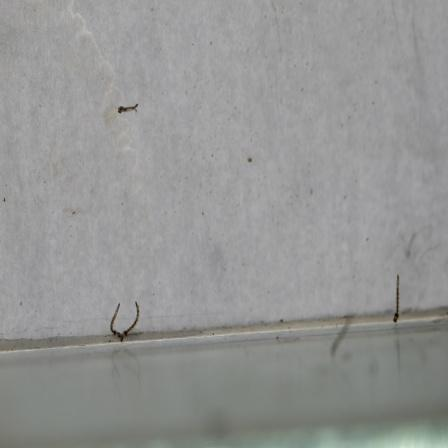Jentik-Nyamuk: (104, 296, 143, 347), (389, 269, 403, 327), (111, 98, 143, 119)
